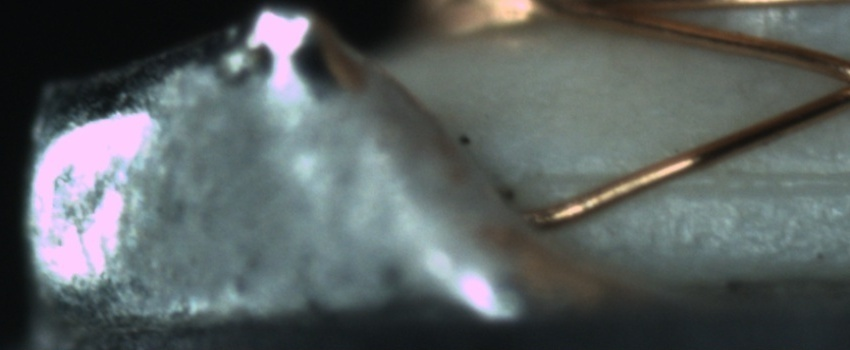DL: (536, 143, 849, 209)
